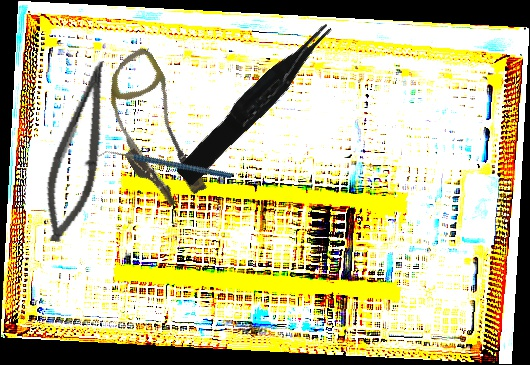Cannula: (82, 44, 224, 216)
Chopper: (96, 111, 234, 221)
Micro Scissor: (35, 55, 119, 247)
Tissue Forceps: (169, 19, 345, 187)
